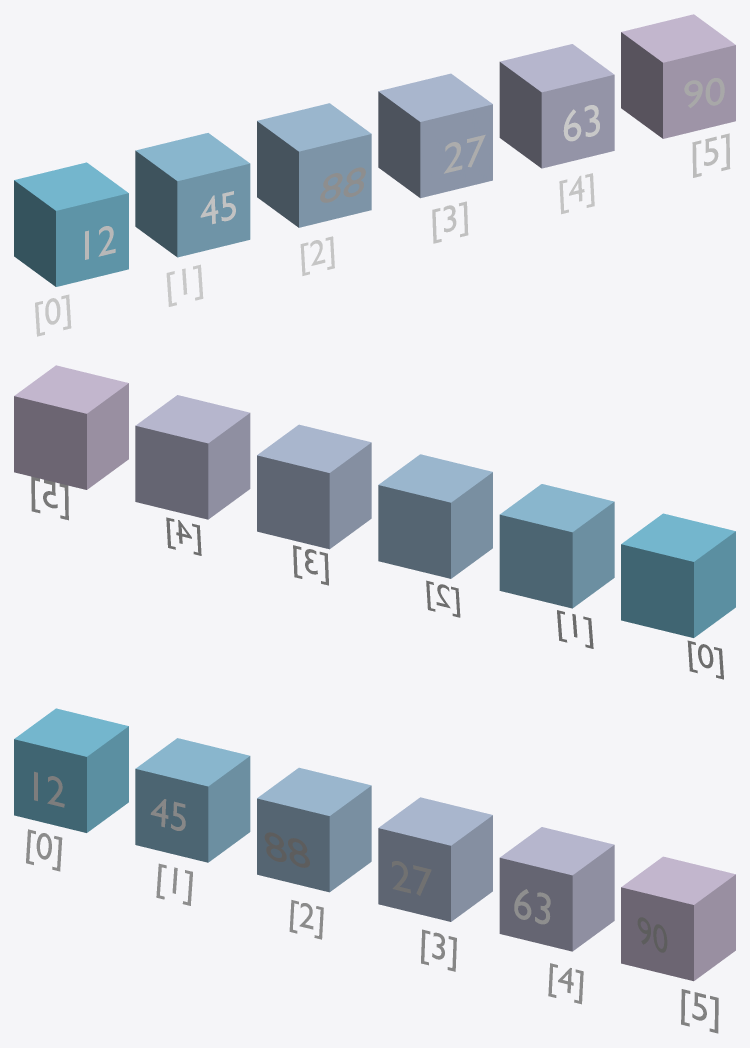
The model's file is array.glb.
The picture shows the model from 3 angles, top to bottom: view 1: azimuth 30°, elevation 25°; view 2: azimuth 150°, elevation 25°; view 3: azimuth 330°, elevation 25°; orthographic projection.
Parts seen in each view (by area): view 1: array_element_1, array_element_0, array_element_4, array_element_3, array_element_5, array_element_2, value_text_2, index_text_5, index_text_0, value_text_5, index_text_3, value_text_4; view 2: array_element_1, array_element_4, array_element_2, array_element_5, array_element_0, array_element_3, index_text_5; view 3: array_element_1, array_element_5, array_element_0, array_element_4, array_element_3, array_element_2, value_text_2, index_text_5, index_text_0, index_text_3.
Boxes of the visible parts, bbox=[...] form: array_element_1: bbox=[135, 133, 250, 257]; array_element_0: bbox=[14, 162, 128, 286]; array_element_4: bbox=[499, 44, 614, 168]; array_element_3: bbox=[378, 73, 492, 198]; array_element_5: bbox=[621, 14, 735, 138]; array_element_2: bbox=[257, 103, 371, 227]; value_text_2: bbox=[320, 167, 365, 202]; index_text_5: bbox=[692, 133, 730, 177]; index_text_0: bbox=[35, 294, 71, 336]; value_text_5: bbox=[684, 78, 724, 107]; index_text_3: bbox=[432, 201, 468, 243]; value_text_4: bbox=[563, 105, 599, 141]; array_element_1: bbox=[499, 484, 614, 608]; array_element_4: bbox=[135, 395, 250, 519]; array_element_2: bbox=[378, 454, 492, 578]; array_element_5: bbox=[14, 365, 128, 489]; array_element_0: bbox=[621, 513, 735, 637]; array_element_3: bbox=[257, 424, 371, 549]; index_text_5: bbox=[31, 476, 68, 520]; array_element_1: bbox=[135, 738, 250, 862]; array_element_5: bbox=[621, 856, 735, 981]; array_element_0: bbox=[14, 708, 128, 832]; array_element_4: bbox=[499, 827, 614, 951]; array_element_3: bbox=[378, 797, 492, 921]; array_element_2: bbox=[257, 767, 371, 892]; value_text_2: bbox=[264, 832, 309, 867]; index_text_5: bbox=[681, 989, 718, 1033]; index_text_0: bbox=[26, 829, 62, 871]; index_text_3: bbox=[421, 929, 456, 971].
Size of the model in its own units: 14.26 by 2.77 by 1.85.
